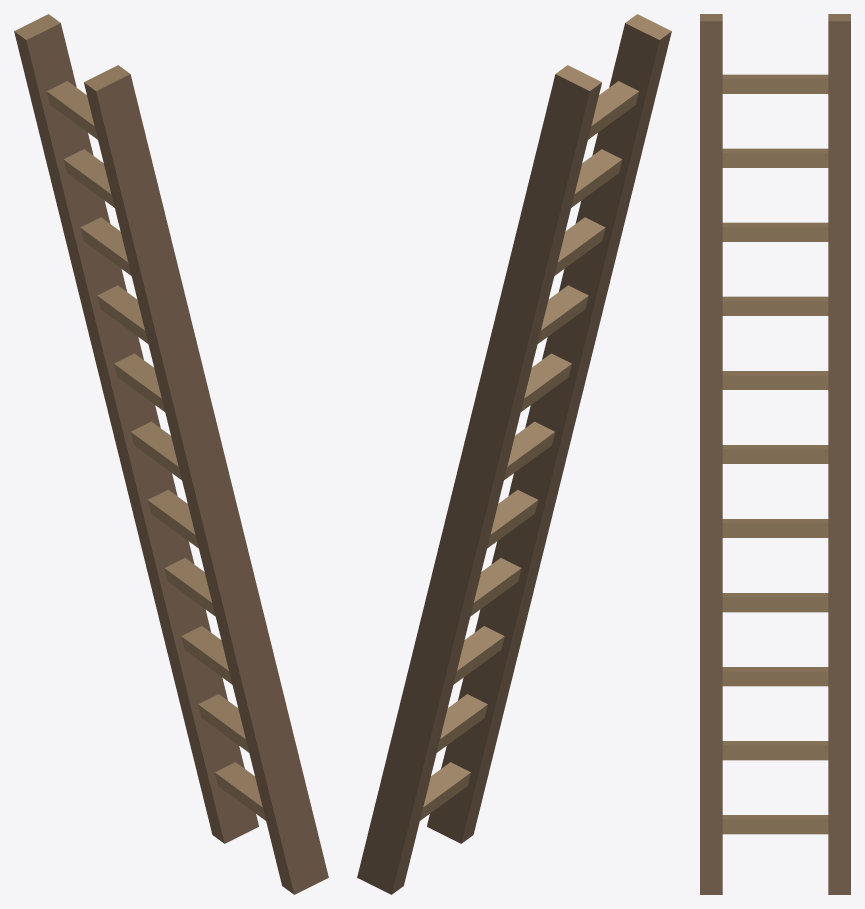
The model's file is Prop_Ladder_1.obj.
3 renders of one model, left to right at view 1: azimuth 30°, elevation 25°; view 2: azimuth 150°, elevation 25°; view 3: azimuth 270°, elevation 25°, orthographic. The views are drawn at different scales.
Visible parts, largest first — view 1: object1; view 2: object1; view 3: object1.
Part boxes in pixels (x1=…): object1: x1=14, y1=14, x2=328, y2=894; object1: x1=357, y1=14, x2=671, y2=894; object1: x1=700, y1=14, x2=850, y2=894.
Size of the model in its own units: 1.11 by 3.93 by 0.678.
